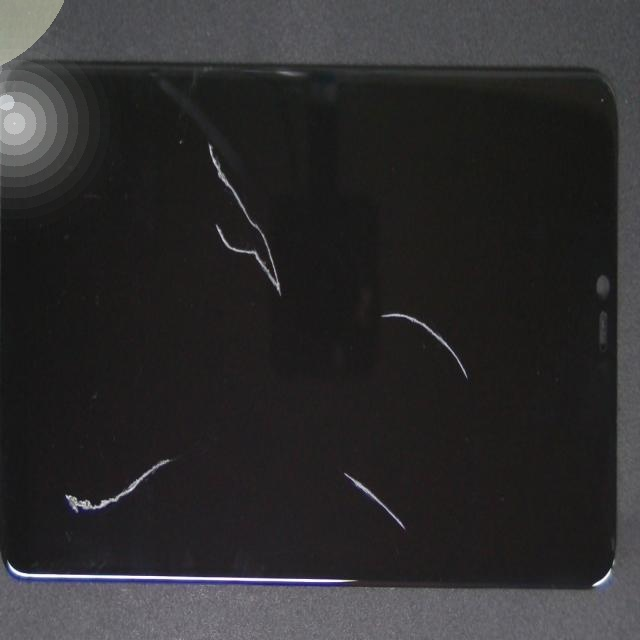scratch: (194, 197, 504, 640), (269, 155, 640, 457), (119, 200, 241, 640), (203, 249, 412, 348)
